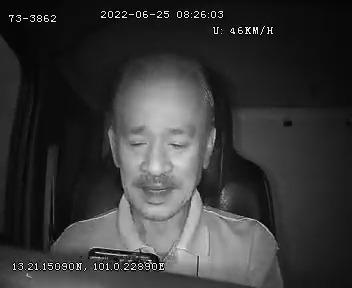PhoneUse: (77, 238, 169, 282)
